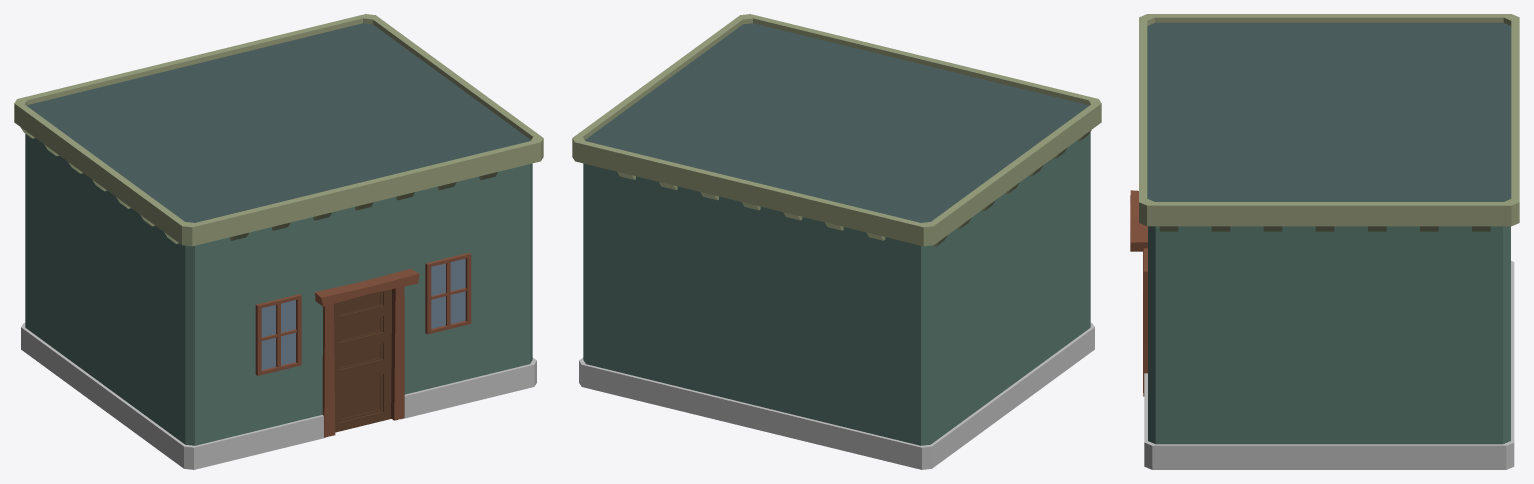
Rendered from Building1Bottom.fbx.
3 renders of one model, left to right at view 1: azimuth 30°, elevation 25°; view 2: azimuth 150°, elevation 25°; view 3: azimuth 270°, elevation 25°, orthographic. The views are drawn at different scales.
Parts seen in each view (by area): view 1: Building1Bottom; view 2: Building1Bottom; view 3: Building1Bottom.
Boxes of the visible parts, x1,y1,x2,y2 form: Building1Bottom: (14,14,543,469); Building1Bottom: (572,14,1101,469); Building1Bottom: (1130,14,1519,469).
Bounding box in the file's own units: 250 × 162 × 215.
